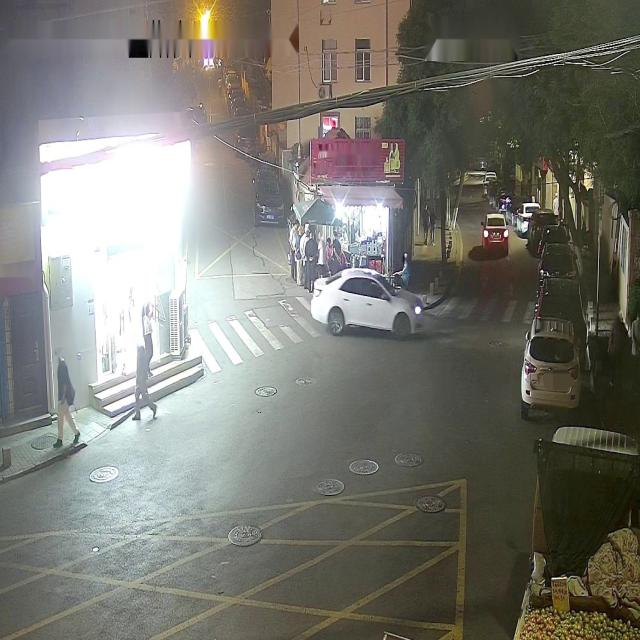car: (500, 426, 640, 640)
fixed_stall: (502, 573, 640, 640)
sunshade: (318, 184, 403, 210), (291, 197, 343, 227)
